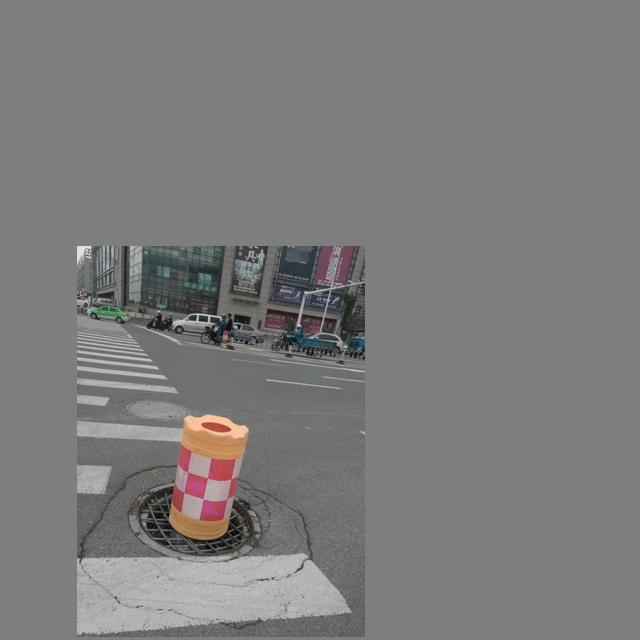broke: (128, 480, 262, 563)
